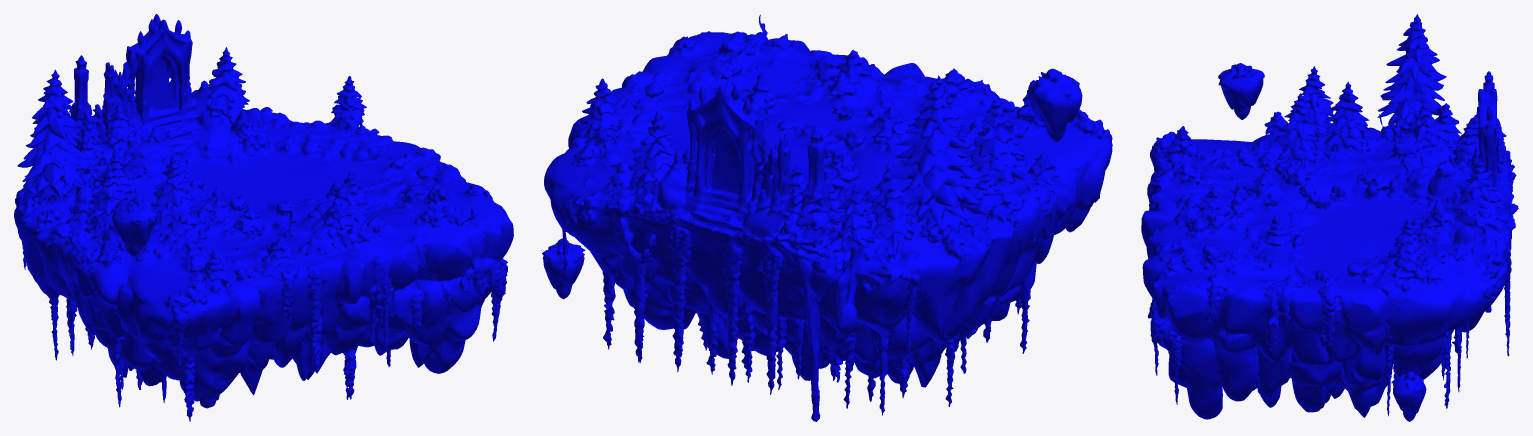
File: sanctuary.glb
The picture shows the model from 3 angles, left to right: view 1: azimuth 30°, elevation 25°; view 2: azimuth 150°, elevation 25°; view 3: azimuth 270°, elevation 25°; orthographic projection. The views are drawn at different scales.
Bounding box in the file's own units: 1.9 × 1.43 × 1.68.
1 material, 1 textured.
